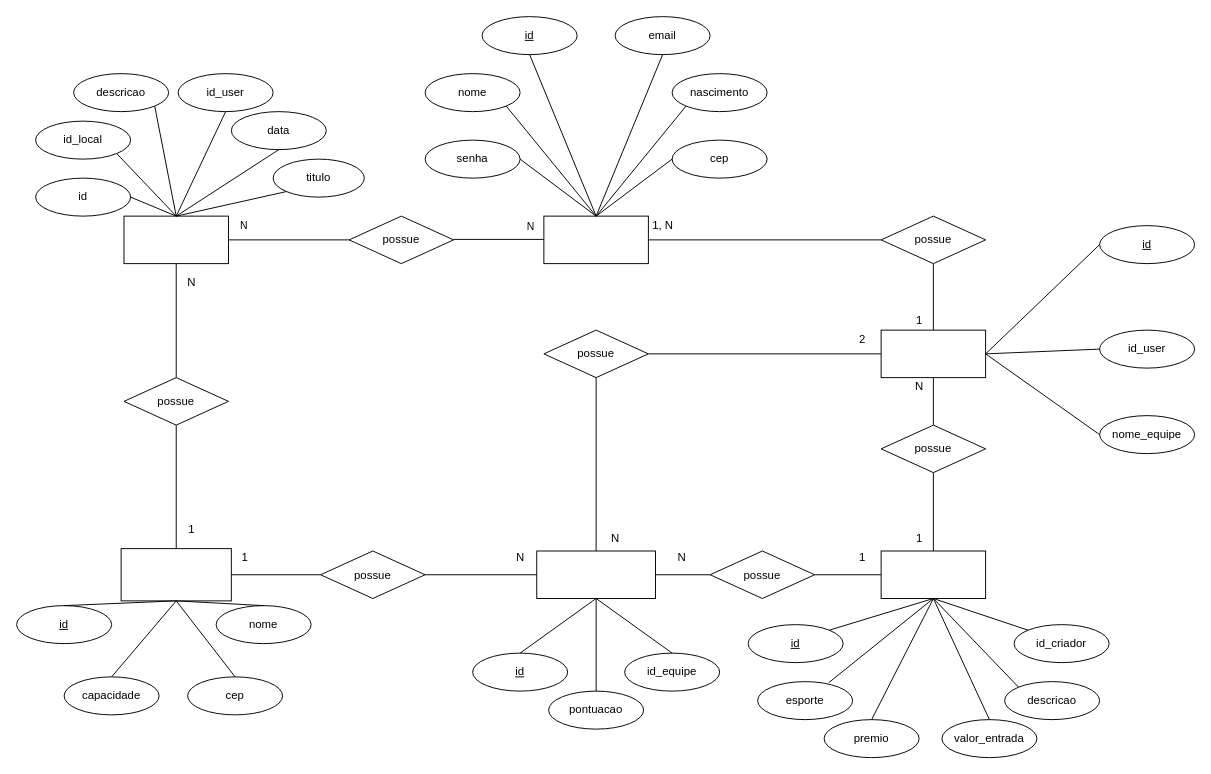
This 1211x774 diagram has some shape labels left out. The shapes that lost their labels are listed below. From the top down, each one's centre as x and y in pixels, then its label:
At point (175, 239): "encontro".
At point (595, 239): "usuario".
At point (933, 353): "equipe".
At point (175, 574): "local".
At point (596, 574): "partida_campeonato".
At point (933, 574): "campeonato".
